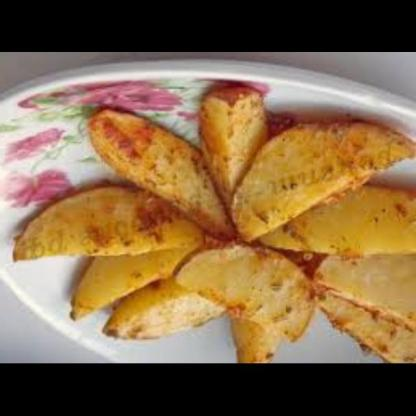potato: (11, 84, 416, 362)
